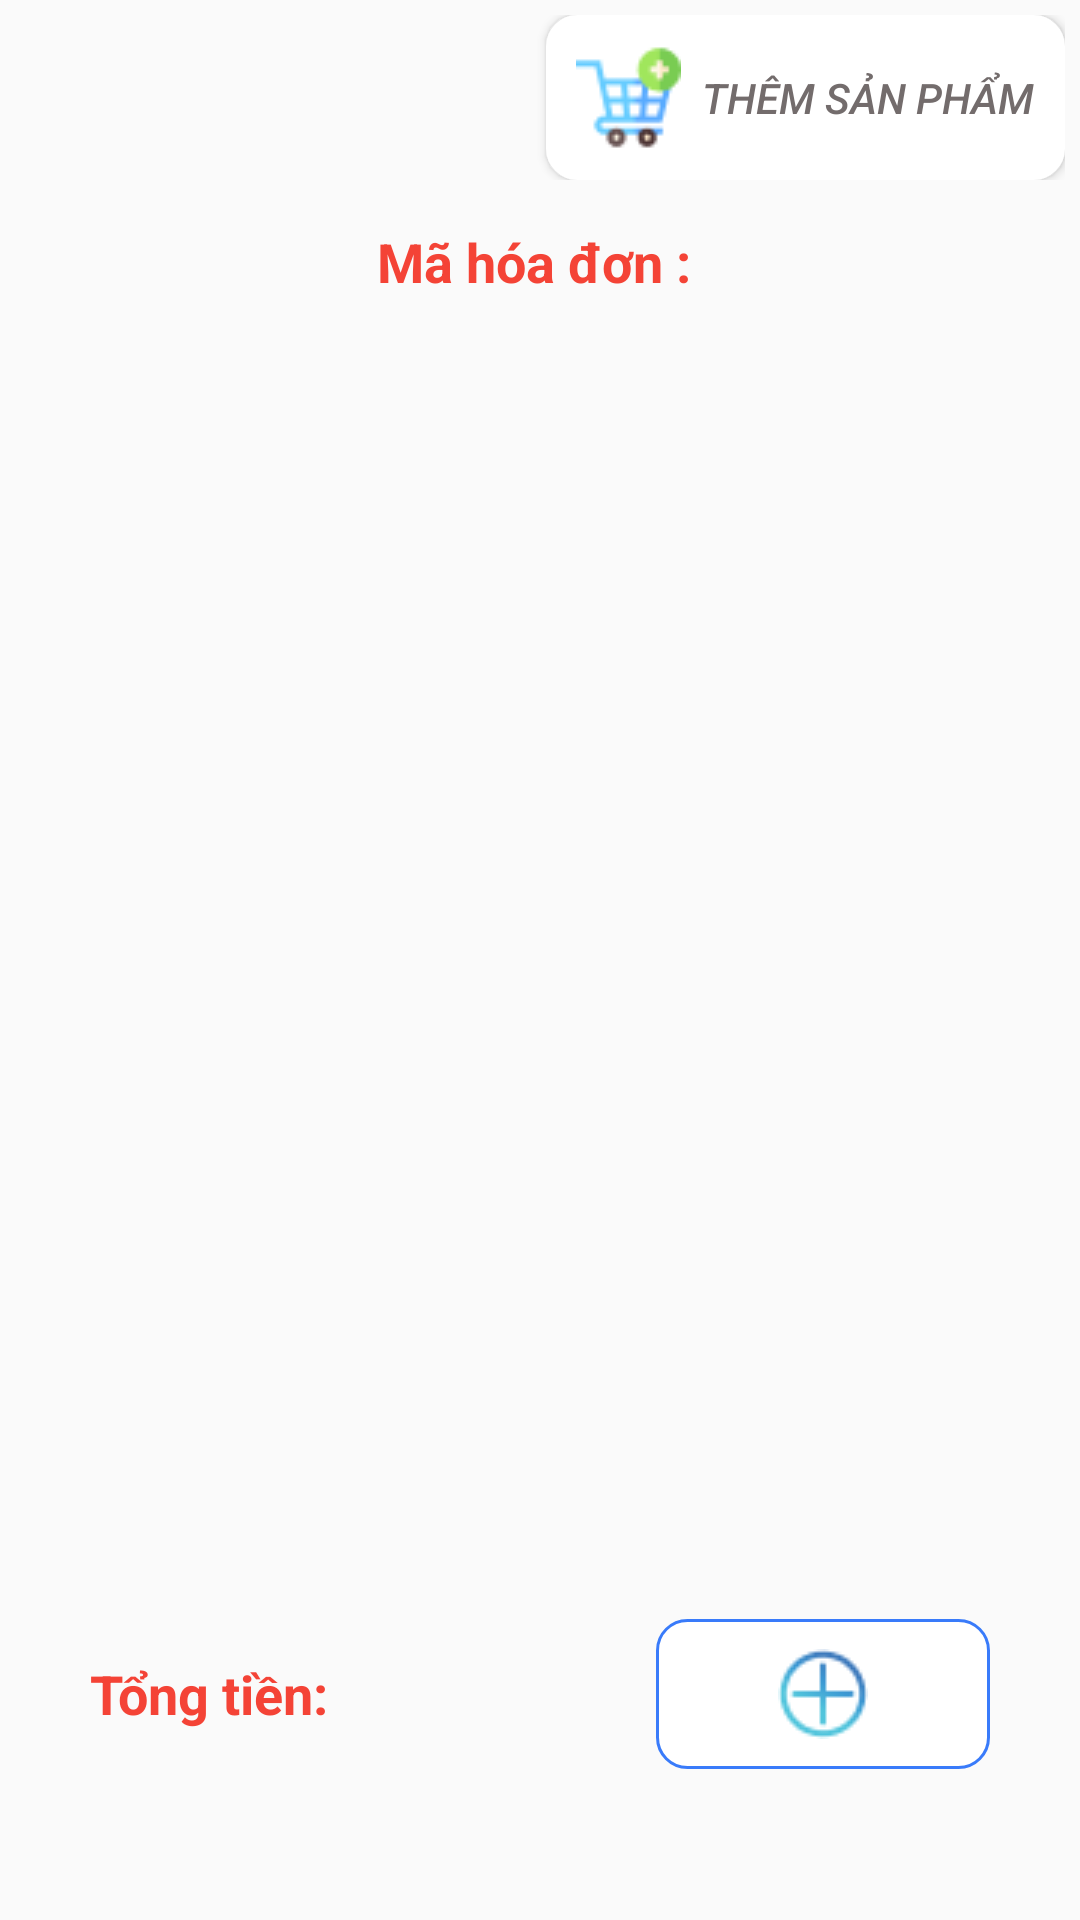

Screen size 1080 × 1920. Icon name, then its center in pixels as [x,y]:
themhd: [823,1694]
